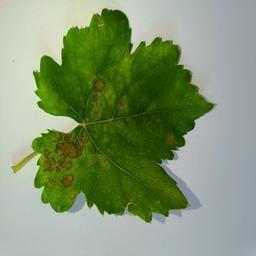Powdery-Mildew: (40, 133, 84, 187)
